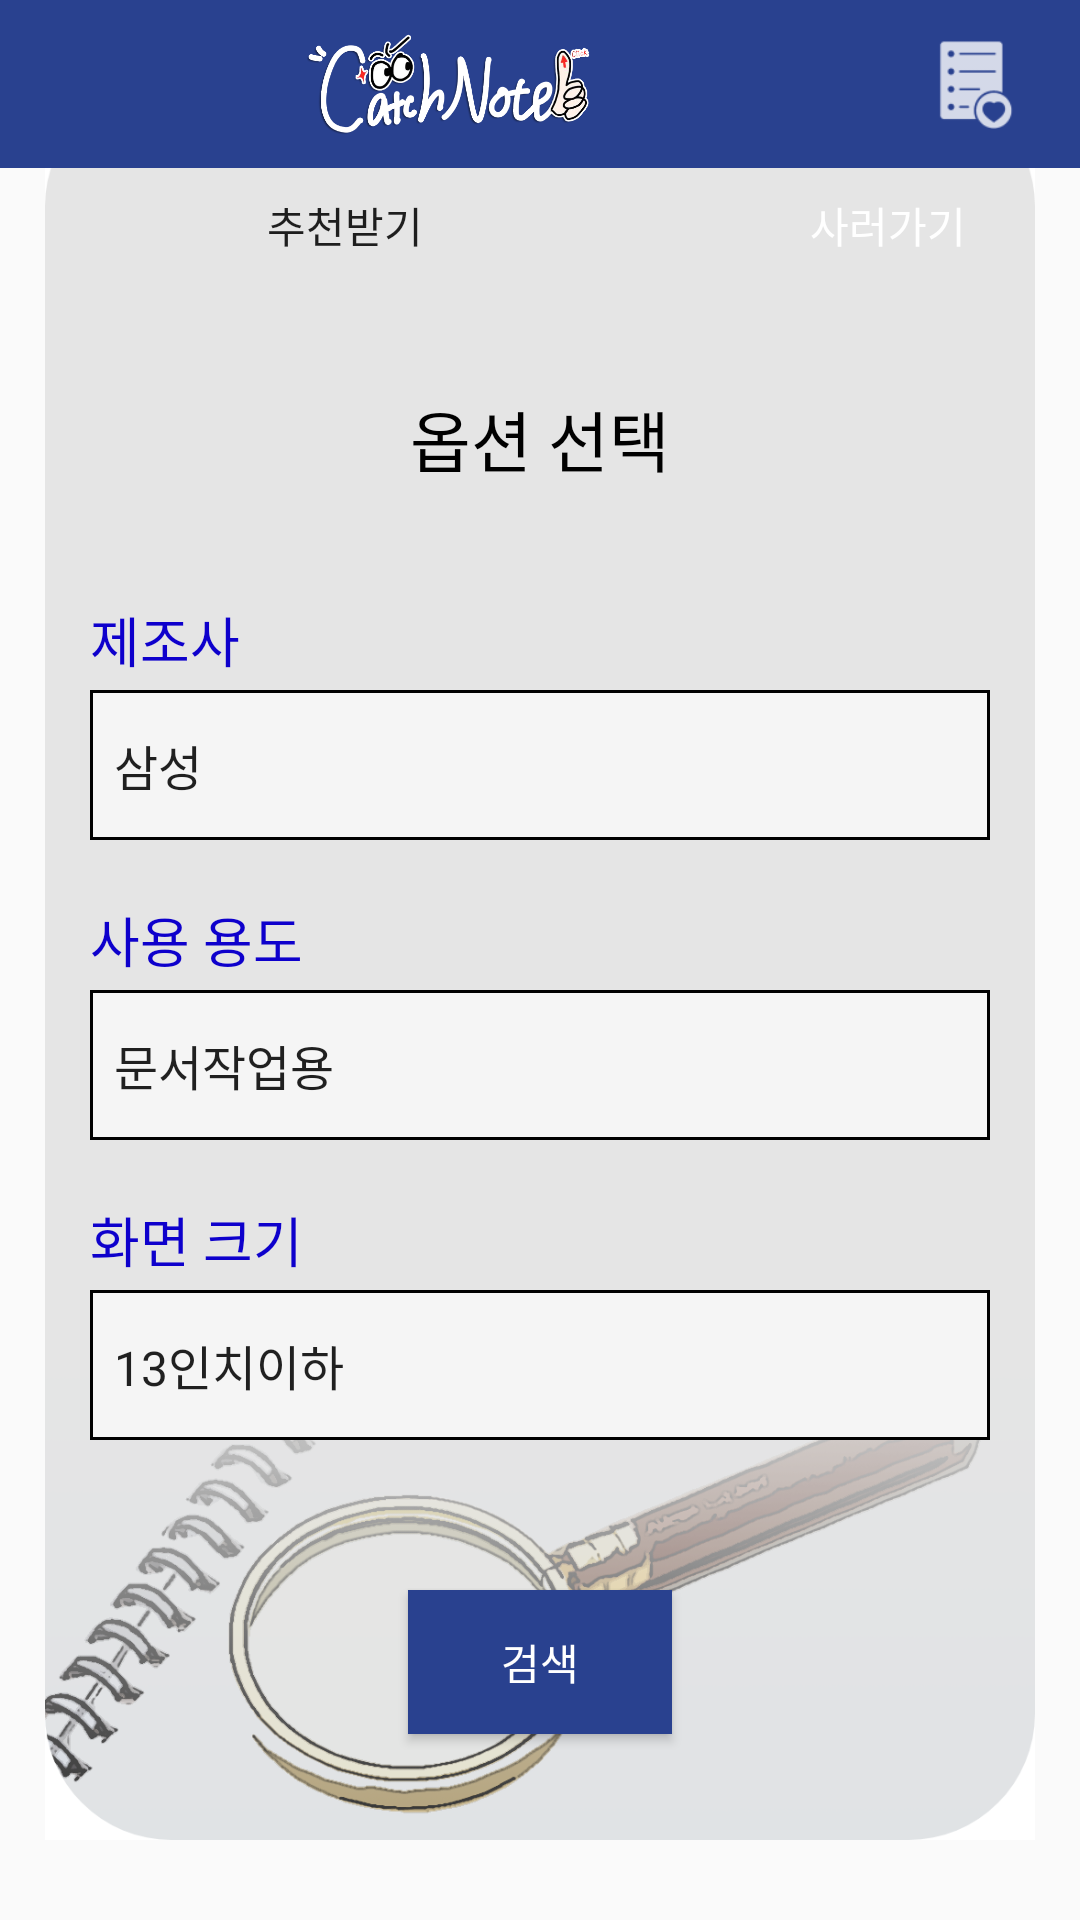

Icon bounding boxes for this 1080px x 1920px phone screenshot, format (x1, y1, x2, y2):
wishlist: (940, 41, 1012, 129)
